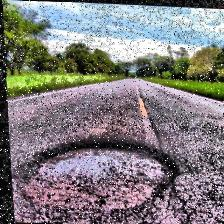pothole: (7, 134, 182, 218)
